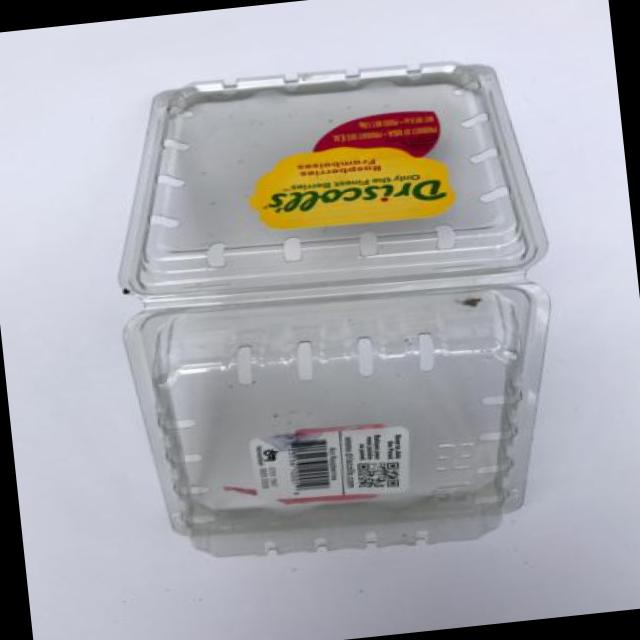Clamshell: (95, 38, 584, 586)
Label: (234, 96, 462, 244), (236, 407, 432, 520)
